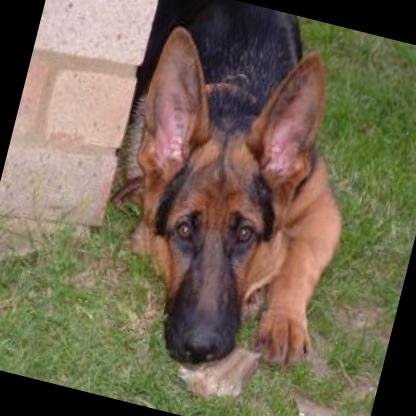German_shepherd: (72, 0, 391, 392)
